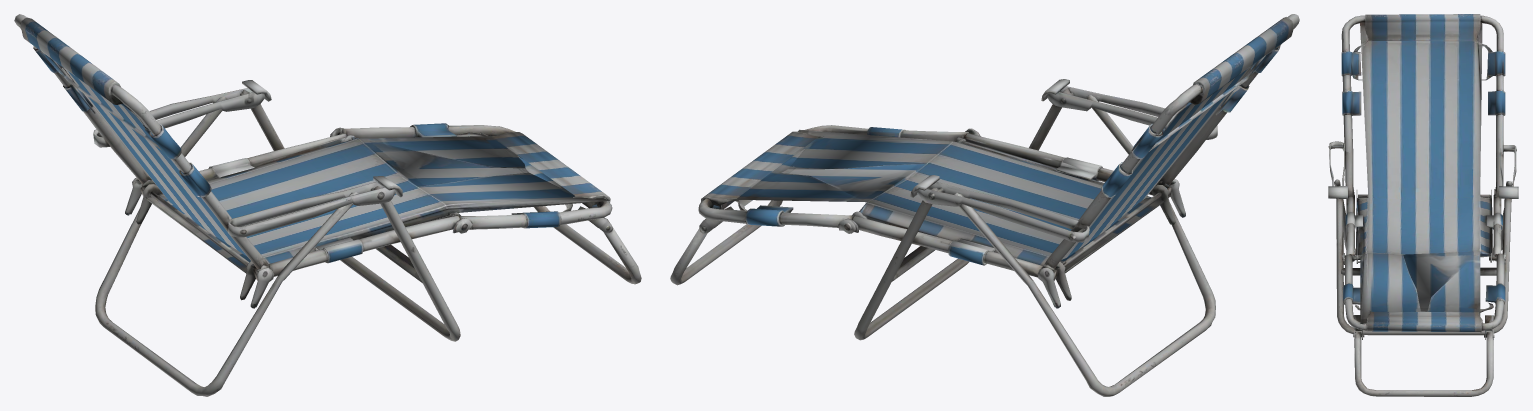
The model's file is cadeira_praia.glb.
3 renders of one model, left to right at view 1: azimuth 30°, elevation 25°; view 2: azimuth 150°, elevation 25°; view 3: azimuth 270°, elevation 25°, orthographic. The views are drawn at different scales.
Visible parts, largest first — view 1: Cadeira de praia; view 2: Cadeira de praia; view 3: Cadeira de praia.
Part boxes in pixels (left/top/right/bottom): Cadeira de praia: left=14, top=14, right=641, bottom=396; Cadeira de praia: left=670, top=14, right=1299, bottom=396; Cadeira de praia: left=1328, top=14, right=1518, bottom=396.
Size of the model in its own units: 0.998 by 0.5957 by 0.4746.
1 material, 1 textured.
